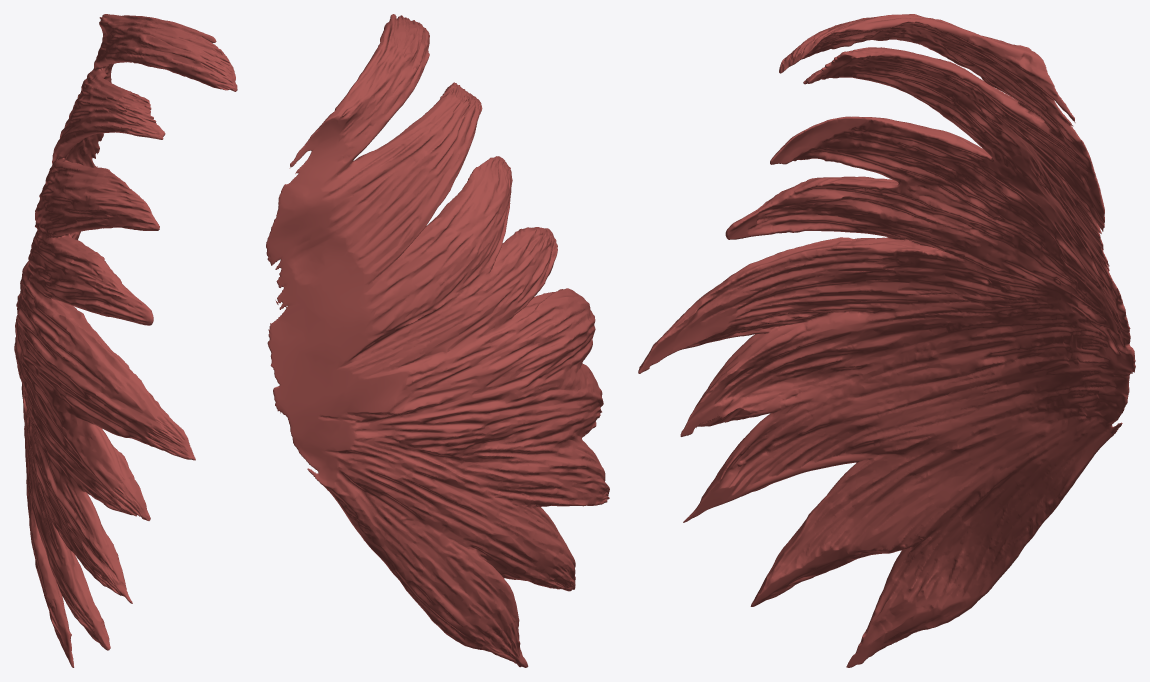
File: FMA13398.glb
3 renders of one model, left to right at view 1: azimuth 30°, elevation 25°; view 2: azimuth 150°, elevation 25°; view 3: azimuth 270°, elevation 25°, orthographic. The views are drawn at different scales.
Parts seen in each view (by area): view 1: FMA13398; view 2: FMA13398; view 3: FMA13398.
Boxes of the visible parts, left/top/right/bottom form: FMA13398: left=14, top=14, right=237, bottom=667; FMA13398: left=266, top=14, right=609, bottom=667; FMA13398: left=638, top=14, right=1135, bottom=667.
Size of the model in its own units: 0.0837 by 0.266 by 0.1667.
